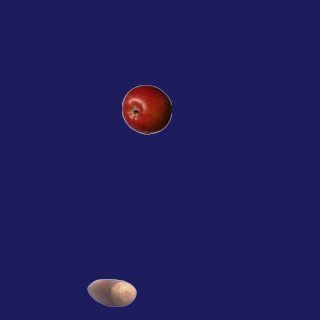Apple Braeburn: (121, 84, 171, 134)
Hazelnut: (86, 267, 136, 317)
